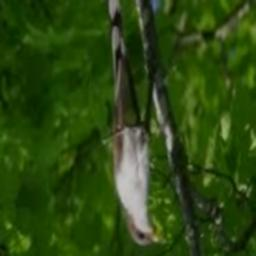Cuckoo: (105, 0, 158, 245)
